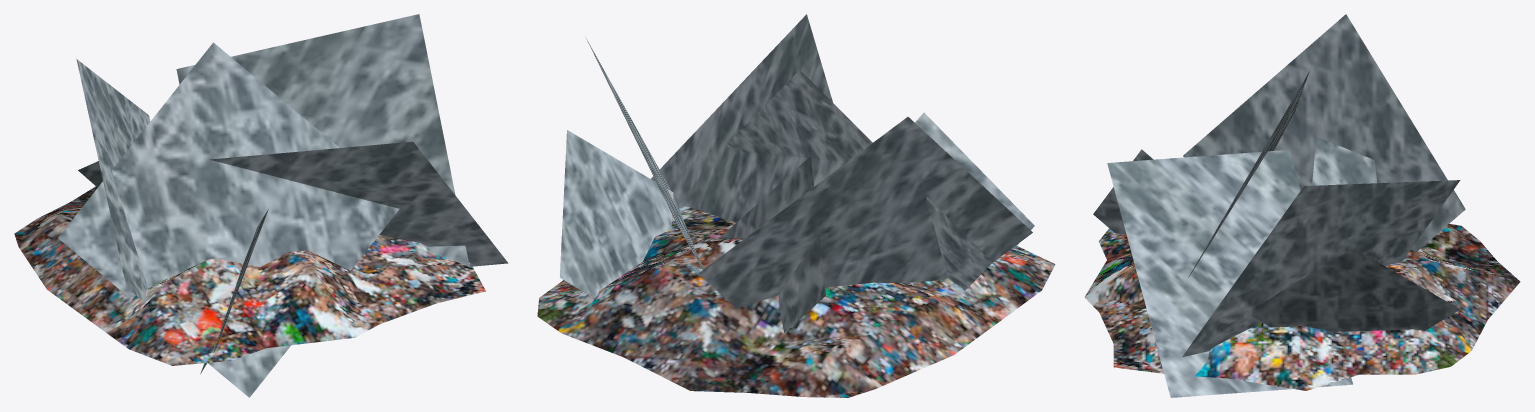
Rendered from Glass Spikes_FBX.fbx.
3 renders of one model, left to right at view 1: azimuth 30°, elevation 25°; view 2: azimuth 150°, elevation 25°; view 3: azimuth 270°, elevation 25°, orthographic. The views are drawn at different scales.
Parts seen in each view (by area): view 1: Plane; view 2: Plane; view 3: Plane.
Part boxes in pixels (box(x1,y1,x2,y2)): Plane: box(14, 14, 507, 397); Plane: box(537, 14, 1055, 397); Plane: box(1084, 14, 1520, 397).
Size of the model in its own units: 200 by 144 by 197.
